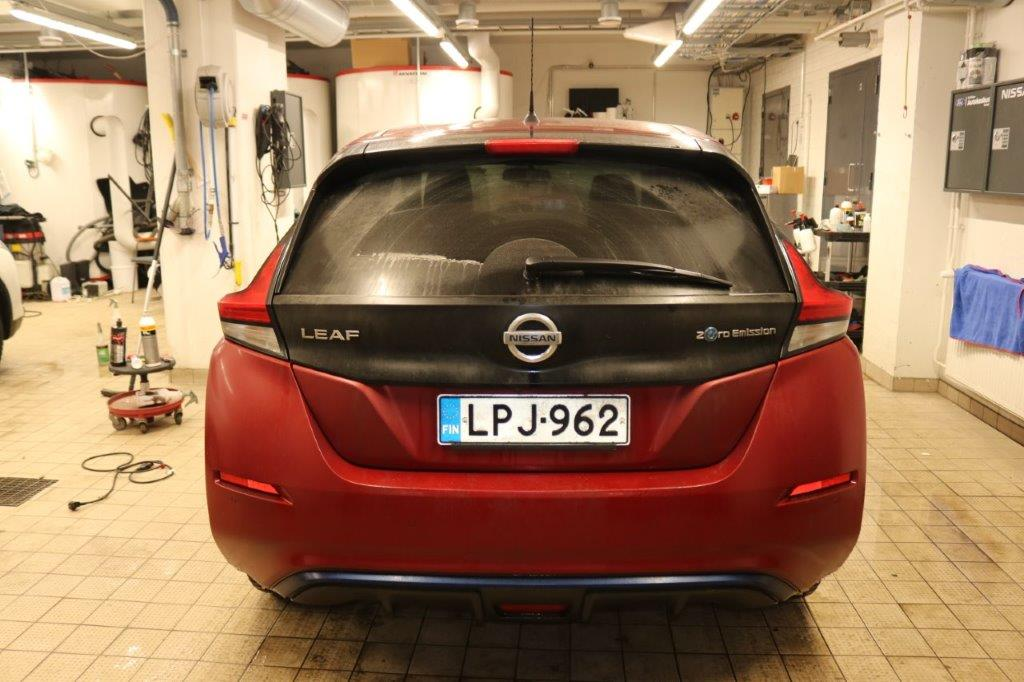license: (437, 394, 632, 447)
